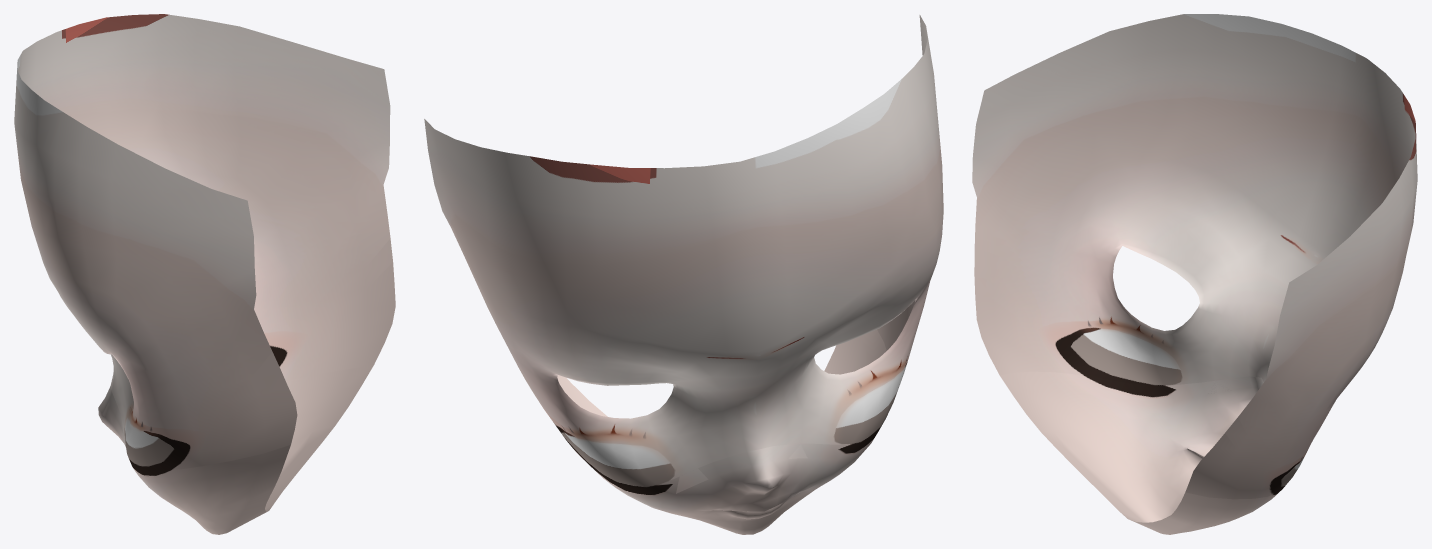
The picture shows the model from 3 angles, left to right: view 1: azimuth 30°, elevation 25°; view 2: azimuth 150°, elevation 25°; view 3: azimuth 270°, elevation 25°; orthographic projection. The views are drawn at different scales.
Parts seen in each view (by area): view 1: final.001_final.071; view 2: final.001_final.071; view 3: final.001_final.071.
Boxes of the visible parts, x1,y1,x2,y2 form: final.001_final.071: [14, 14, 395, 534]; final.001_final.071: [424, 15, 943, 534]; final.001_final.071: [972, 14, 1417, 534].
Size of the model in its own units: 3.66 by 4.03 by 3.65.
